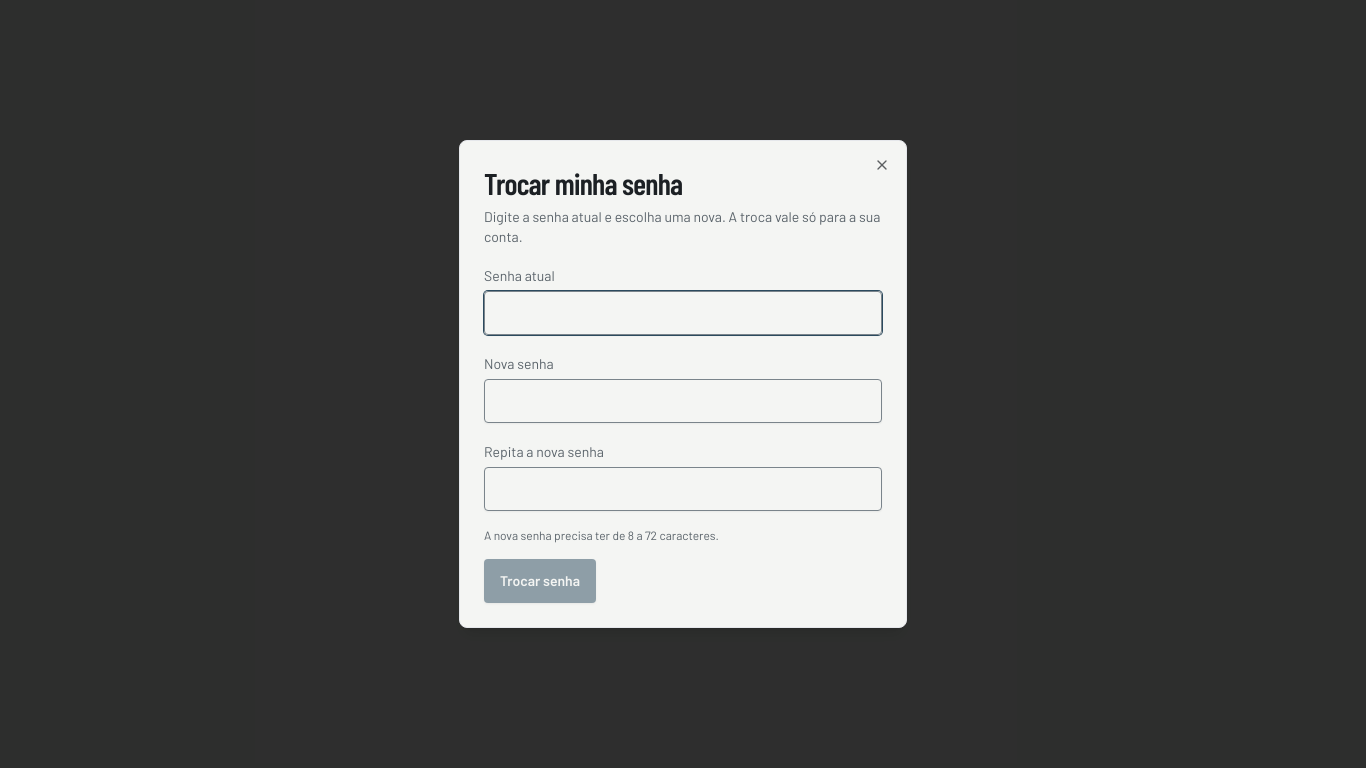
Test: TrocarMinhaSenha › resposta 400 da API vira um aviso claro
Type "antiga-123" into the password field labelled "Senha atual" at (683, 313), box [484,291,882,335]
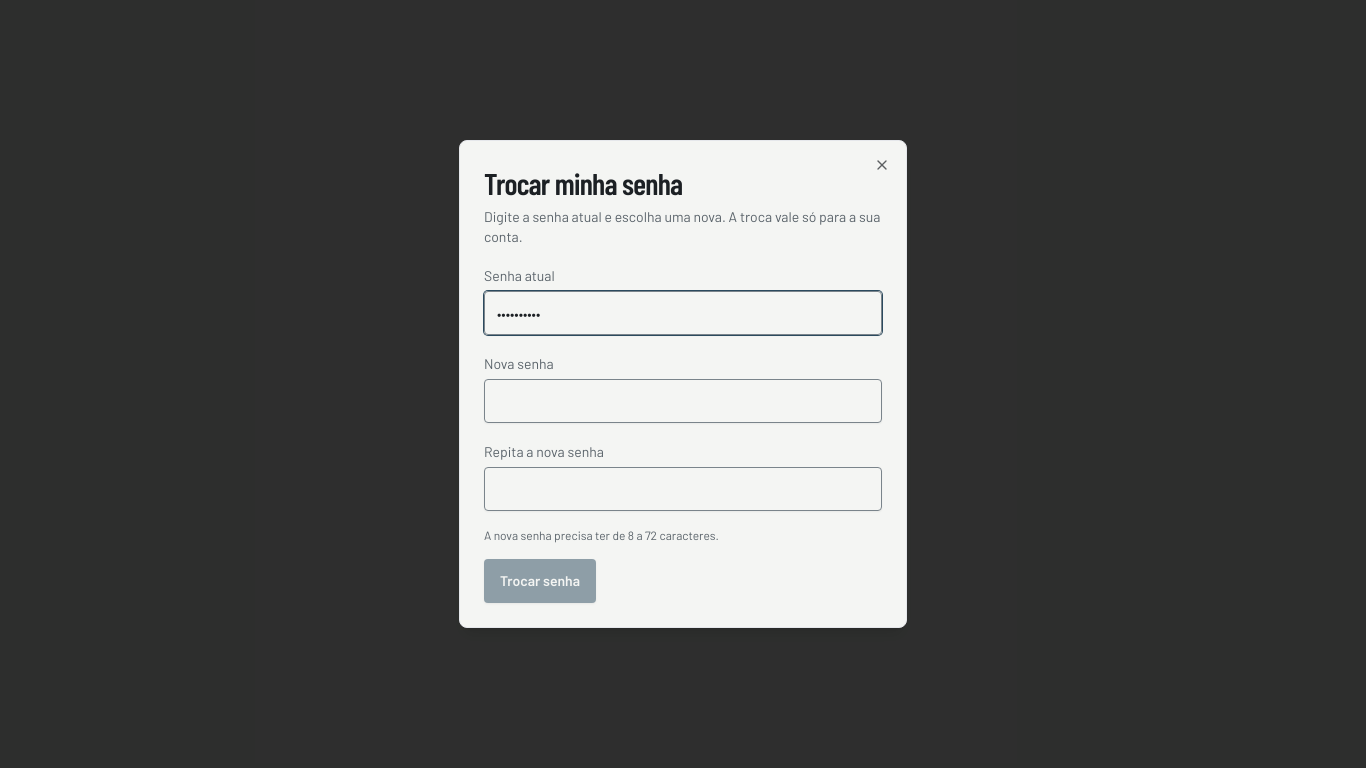
Type "nova-12345" into the password field labelled "Nova senha" at (683, 401), box [484,379,882,423]
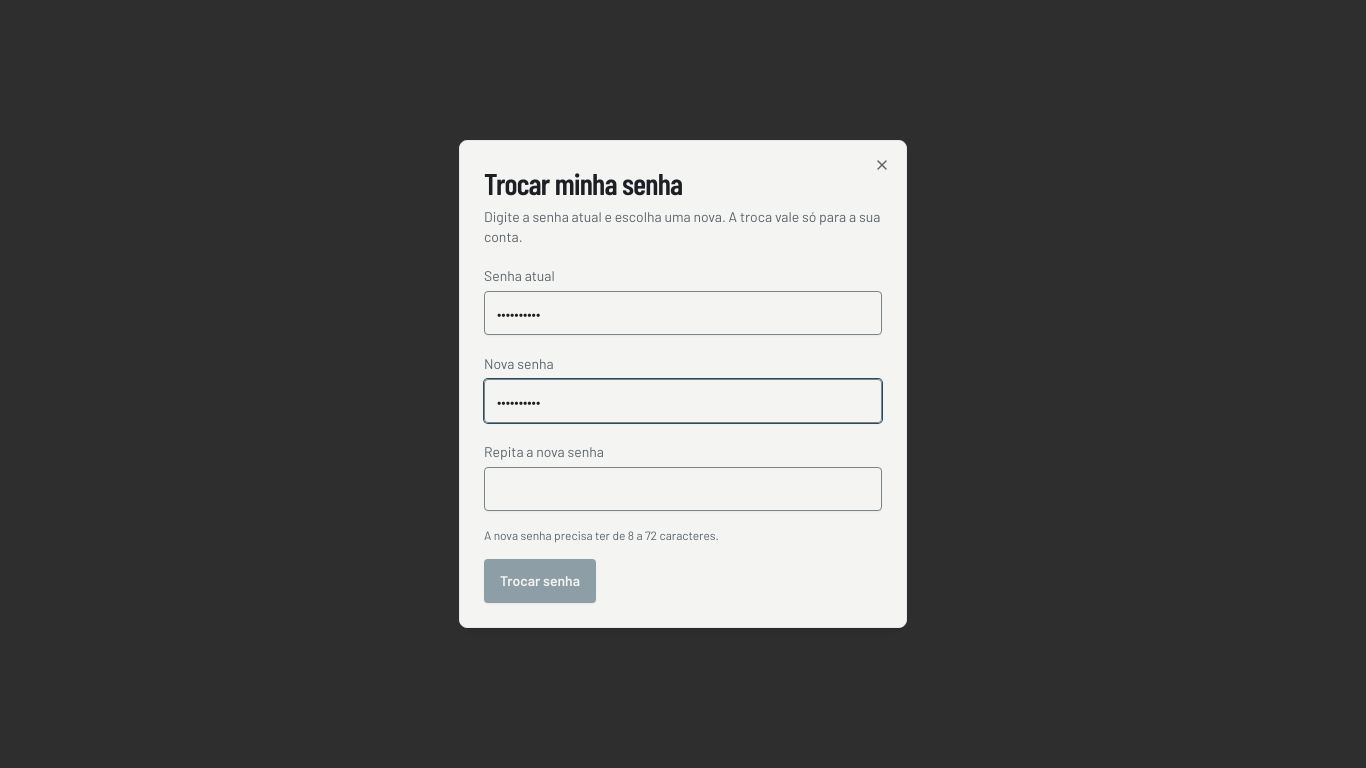
Type "nova-12345" into the password field labelled "Repita a nova senha" at (683, 489), box [484,467,882,511]
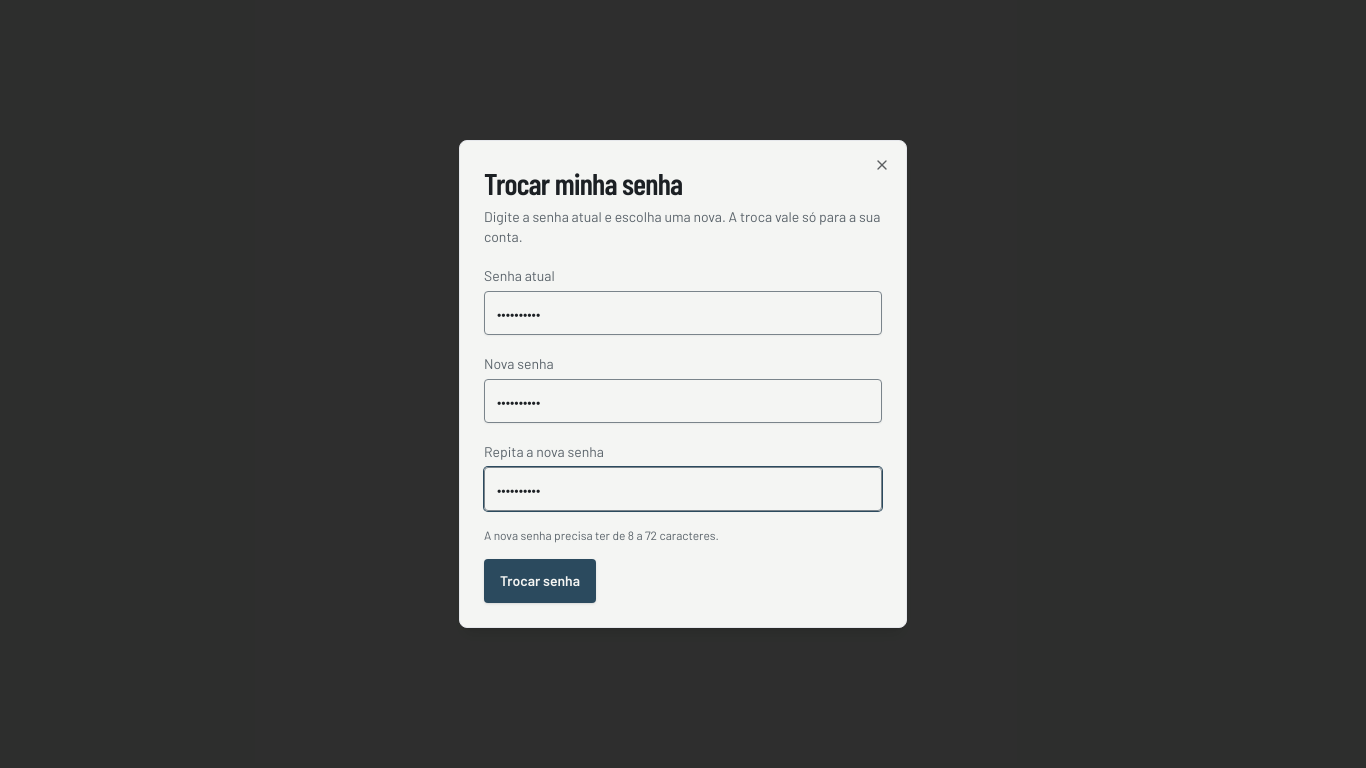
Click the button "Trocar senha" at (540, 581), box [484,559,596,603]
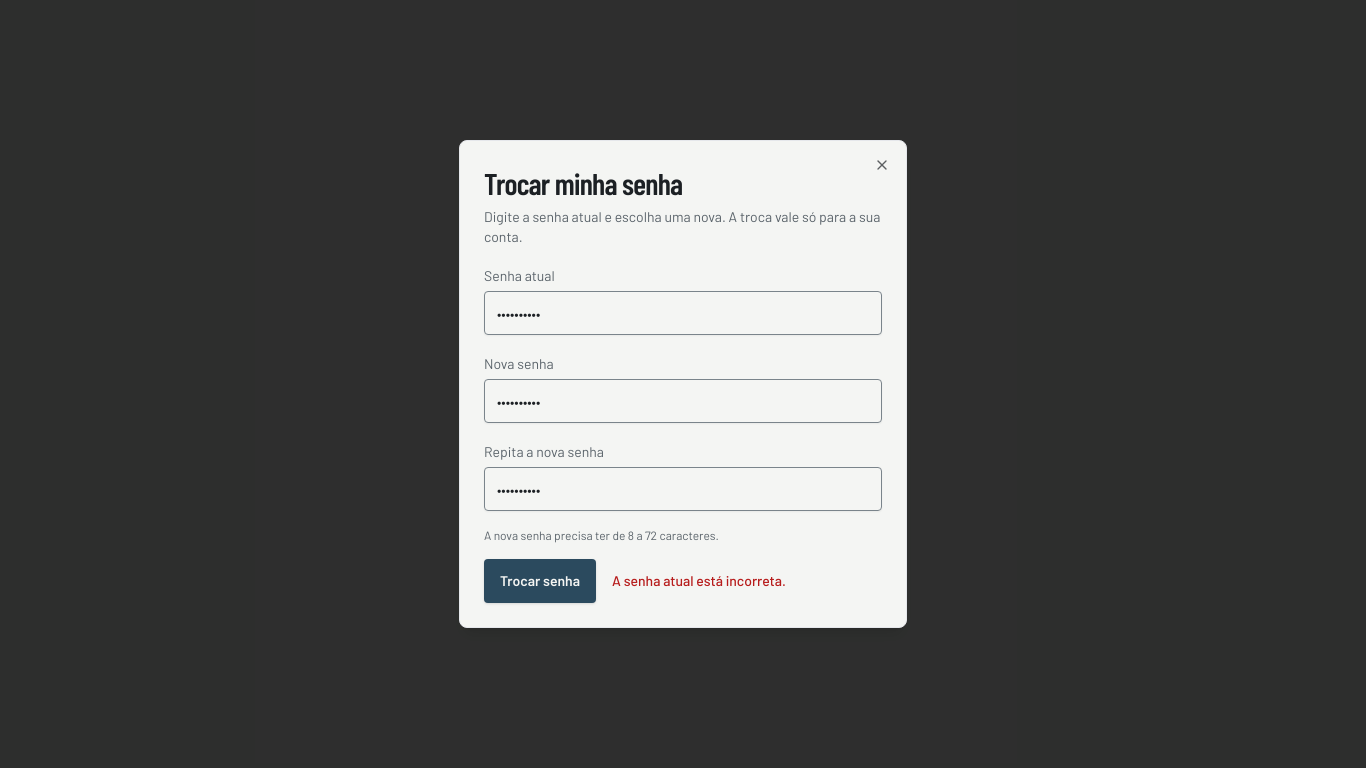
Expected: the message reads "A senha atual está incorreta.", [612,572,786,589]
